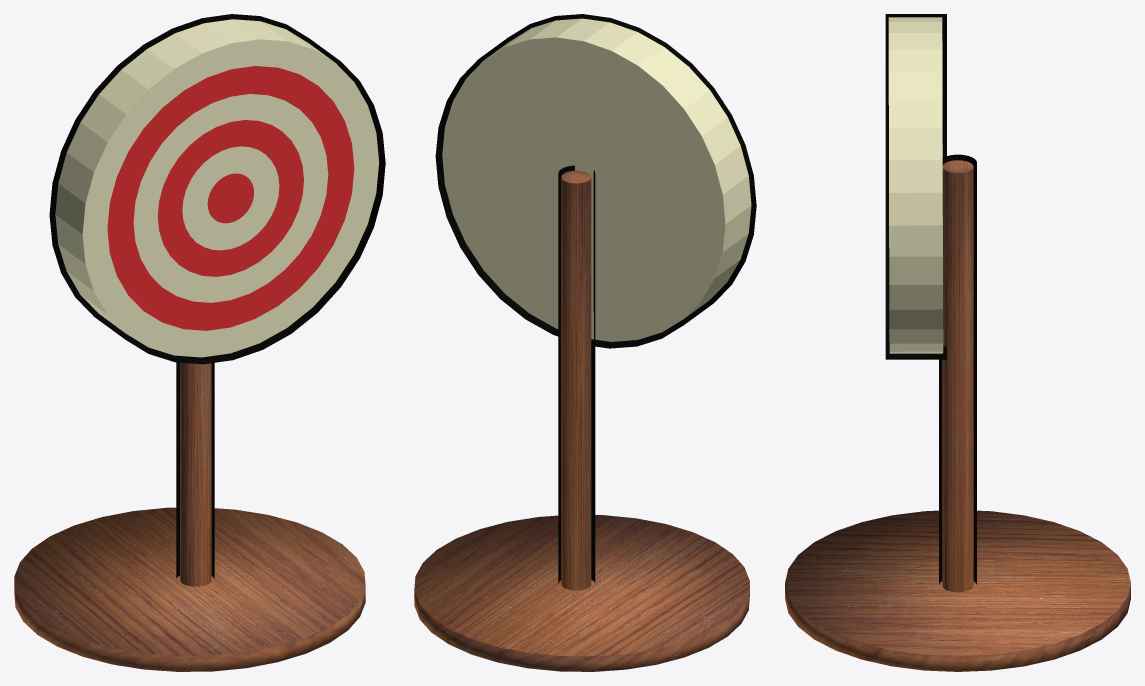
File: bersaglio1.fbx
3 renders of one model, left to right at view 1: azimuth 30°, elevation 25°; view 2: azimuth 150°, elevation 25°; view 3: azimuth 270°, elevation 25°, orthographic. The views are drawn at different scales.
Parts seen in each view (by area): view 1: bersaglio, outline base, outline bersaglio, outline sostegno; view 2: bersaglio, outline base, outline bersaglio, outline sostegno; view 3: outline base, bersaglio, outline bersaglio, outline sostegno.
Part boxes in pixels (x1=…): bersaglio: x1=55, y1=19, x2=379, y2=586; outline base: x1=14, y1=507, x2=365, y2=671; outline bersaglio: x1=49, y1=14, x2=385, y2=364; outline sostegno: x1=176, y1=362, x2=214, y2=578; bersaglio: x1=442, y1=18, x2=751, y2=590; outline base: x1=414, y1=515, x2=749, y2=671; outline bersaglio: x1=435, y1=14, x2=756, y2=348; outline sostegno: x1=558, y1=165, x2=595, y2=583; outline base: x1=785, y1=510, x2=1130, y2=671; bersaglio: x1=888, y1=17, x2=973, y2=592; outline bersaglio: x1=885, y1=14, x2=946, y2=359; outline sostegno: x1=939, y1=154, x2=976, y2=584.
Bounding box in the file's own units: 78.21 × 140 × 76.59.
4 materials, 1 textured.
